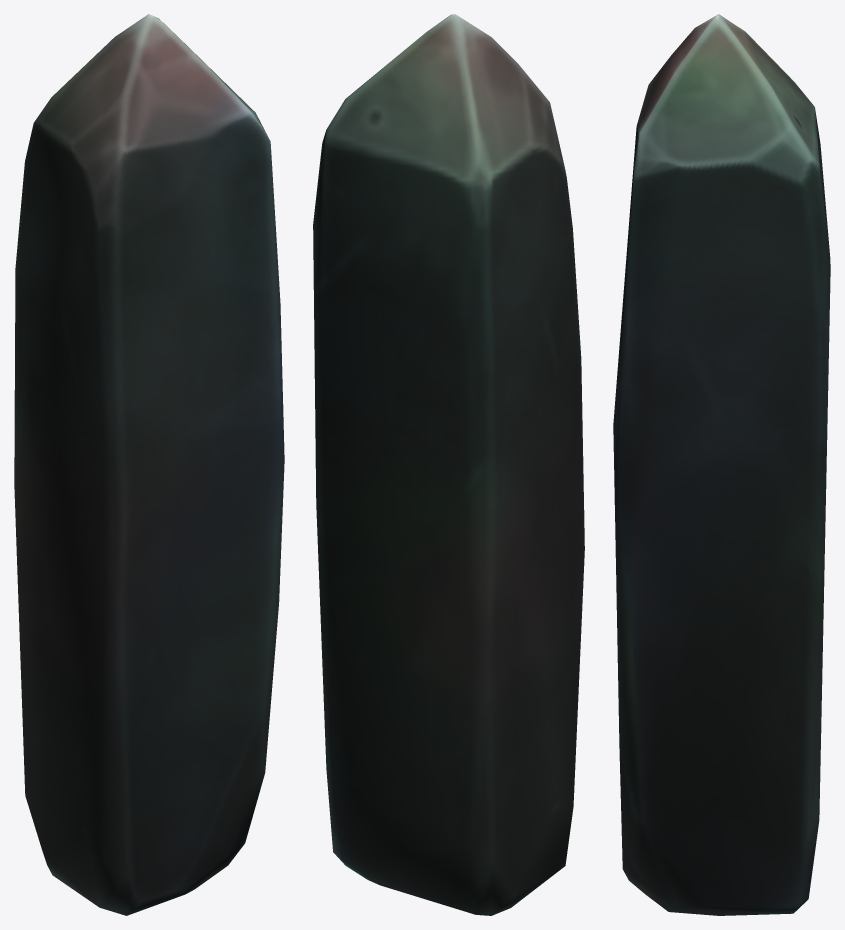
Rendered from SM_Gem_BlackQuartz_002.fbx.
3 views of the same model, side by side, from view 1: azimuth 30°, elevation 25°; view 2: azimuth 150°, elevation 25°; view 3: azimuth 270°, elevation 25° (orthographic). The views are drawn at different scales.
Visible parts, largest first — view 1: SM_Gem_BlackQuartz_002; view 2: SM_Gem_BlackQuartz_002; view 3: SM_Gem_BlackQuartz_002.
Boxes of the visible parts, bbox=[...] form: SM_Gem_BlackQuartz_002: bbox=[14, 14, 284, 915]; SM_Gem_BlackQuartz_002: bbox=[313, 14, 584, 915]; SM_Gem_BlackQuartz_002: bbox=[613, 14, 830, 915].
Size of the model in its own units: 12.52 by 55.69 by 12.42.
